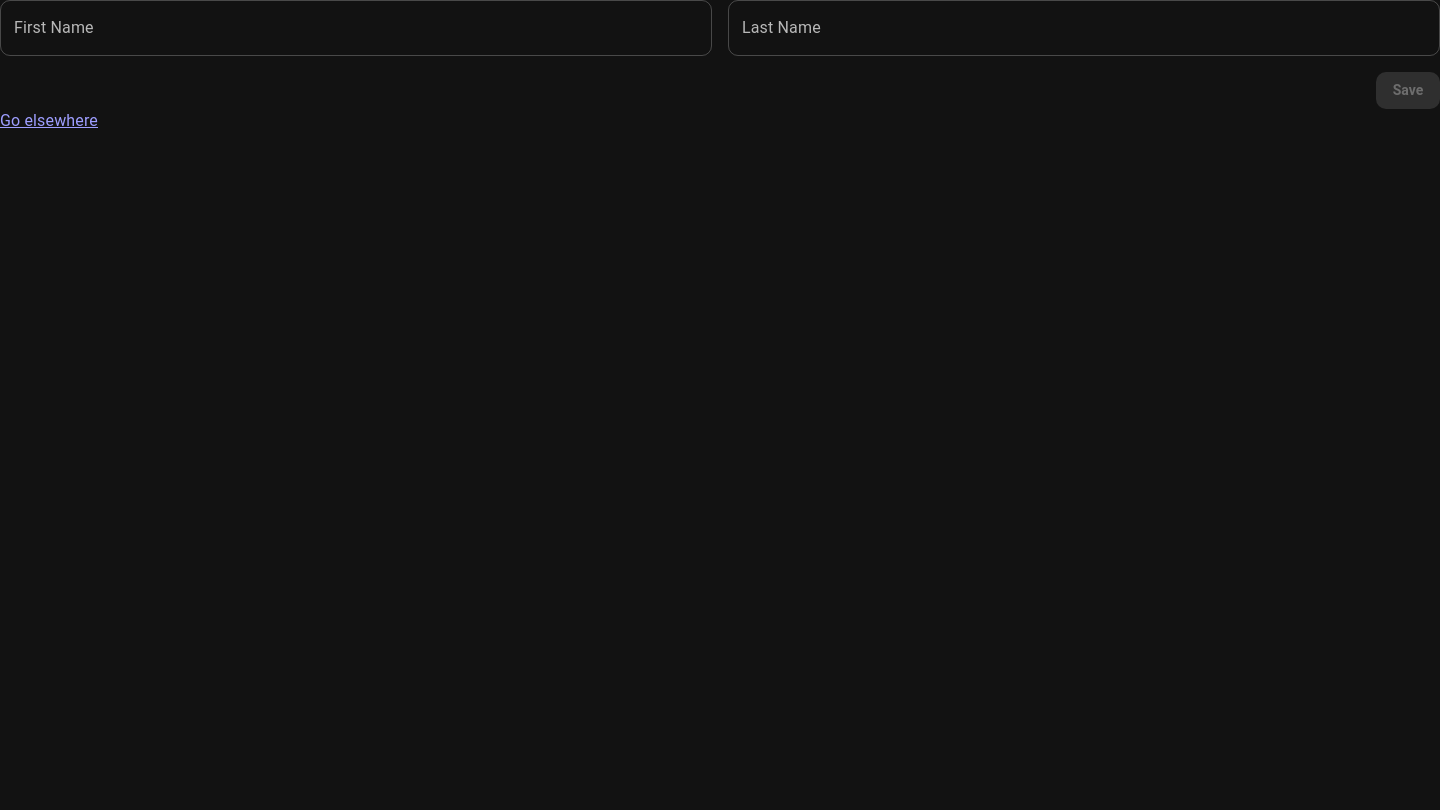
Test case: OasisForm › the unsaved-changes prompt (ISSUES #26) › stays on the page when the user cancels, edits intact
This screenshot has width=1440, height=810.
Type "Amara" into the field labelled "First Name" at x=356, y=28, box [0, 0, 712, 56]
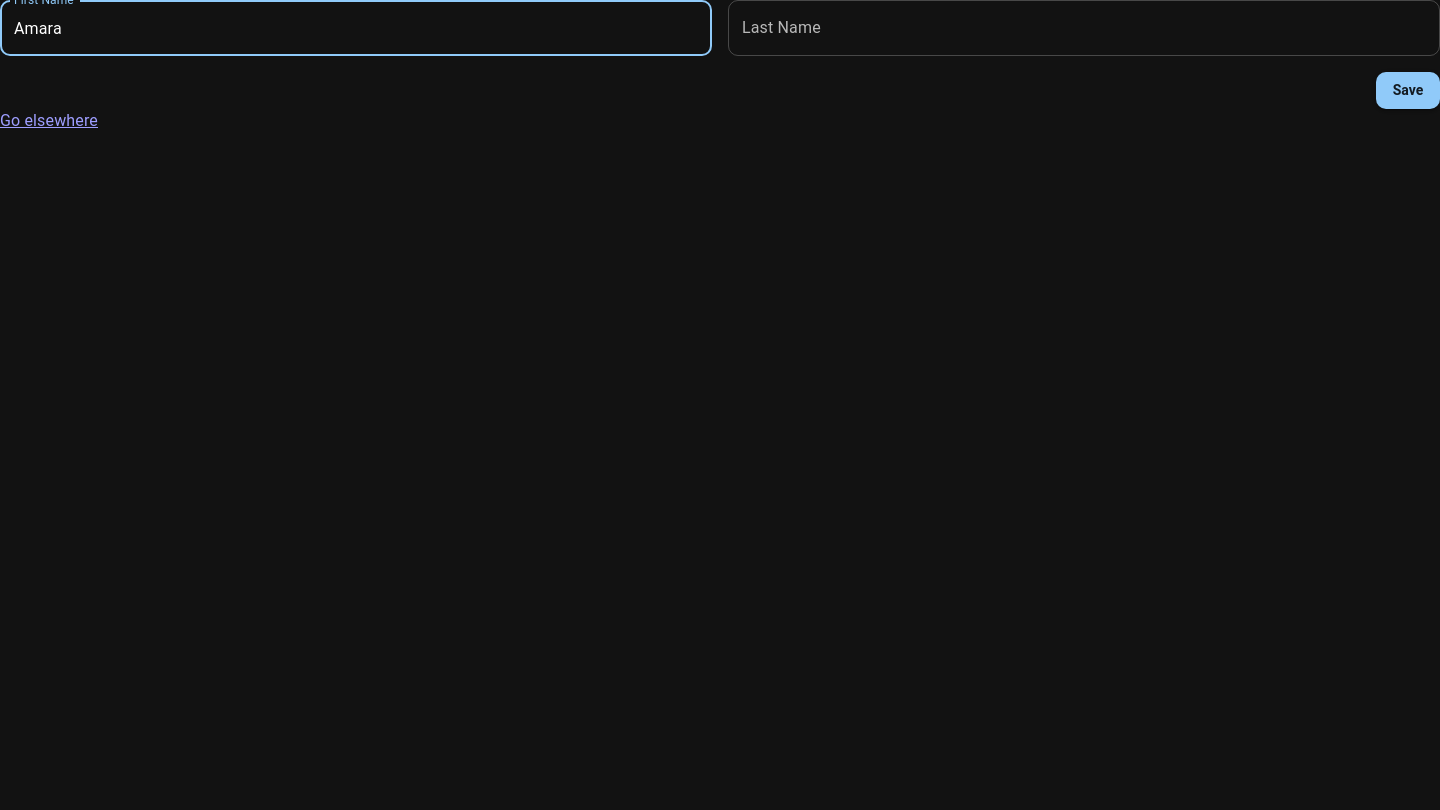
Click the link "Go elsewhere" at x=49, y=120, box [0, 110, 98, 130]
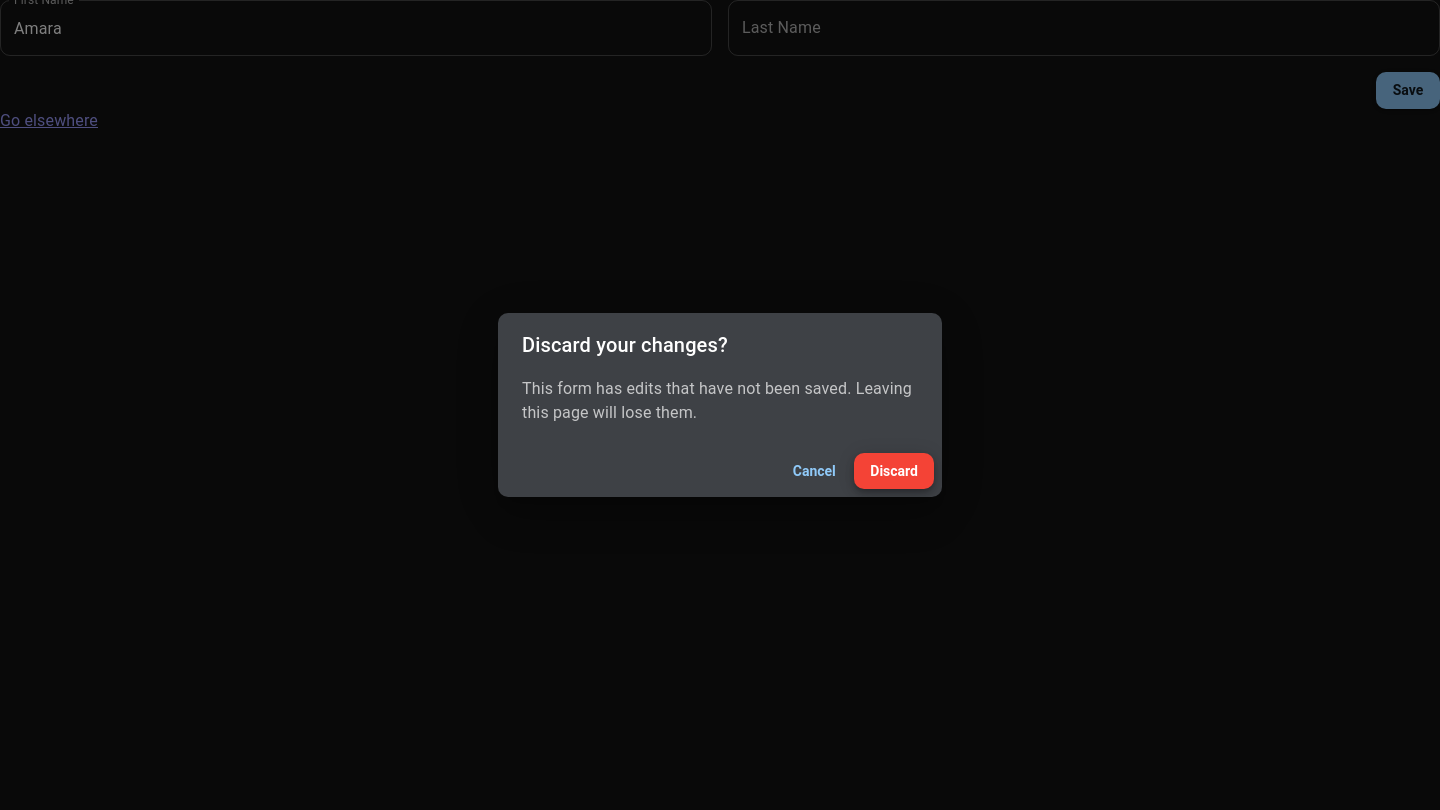
Click the button "Cancel" at x=814, y=471, box [782, 453, 846, 489]
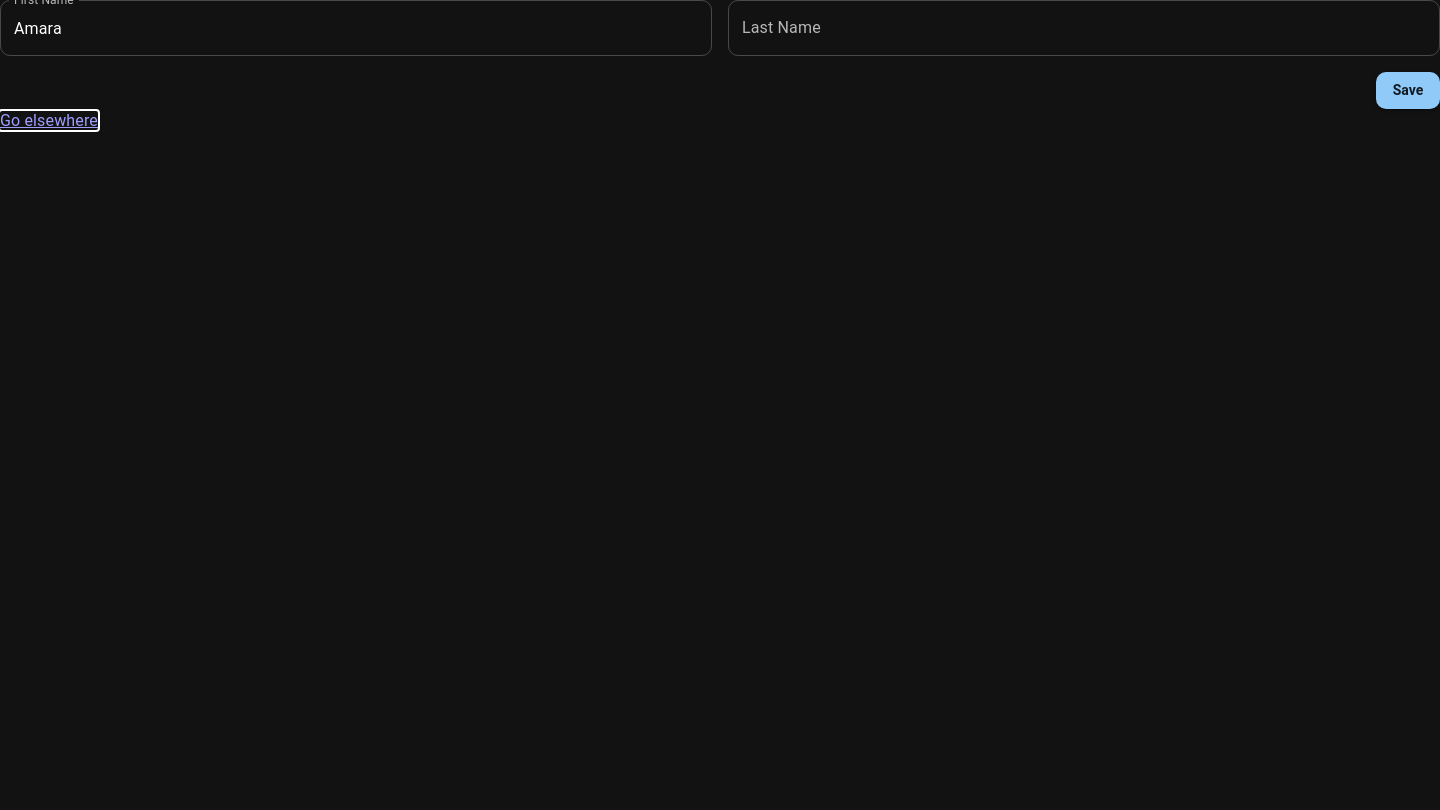
Now the dialog is gone
